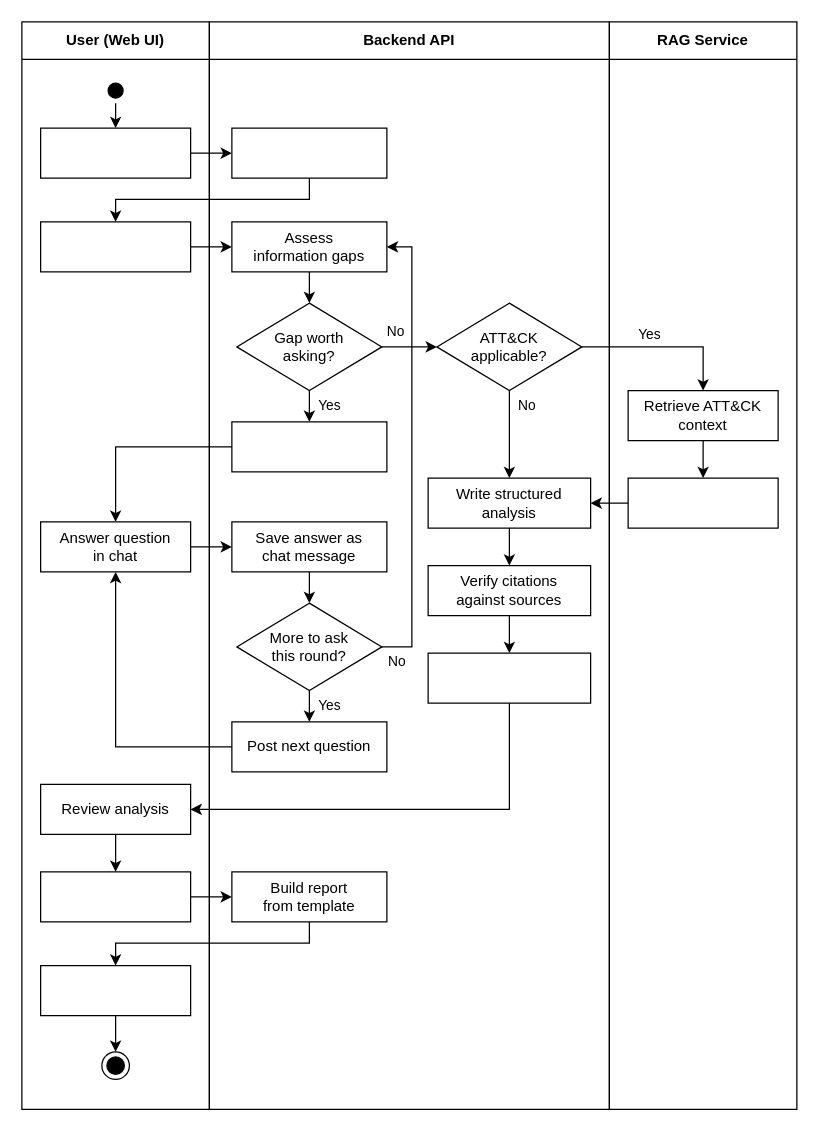
The diagram is 819 pixels wide and 1131 high, and some of its shapes have lost their labels. Here are the shapes that lost their labels. From the top down, the centre of each, then its label:
At (115,152): "Create case and add sources".
At (309,152): "Extract text and save as case source".
At (115,246): "Run analysis".
At (309,446): "Save assessment and post question".
At (702,502): "Look up Thai legal provisions".
At (509,677): "Save validated analysis".
At (115,896): "Generate report".
At (115,990): "Download report as HTML or PDF".
